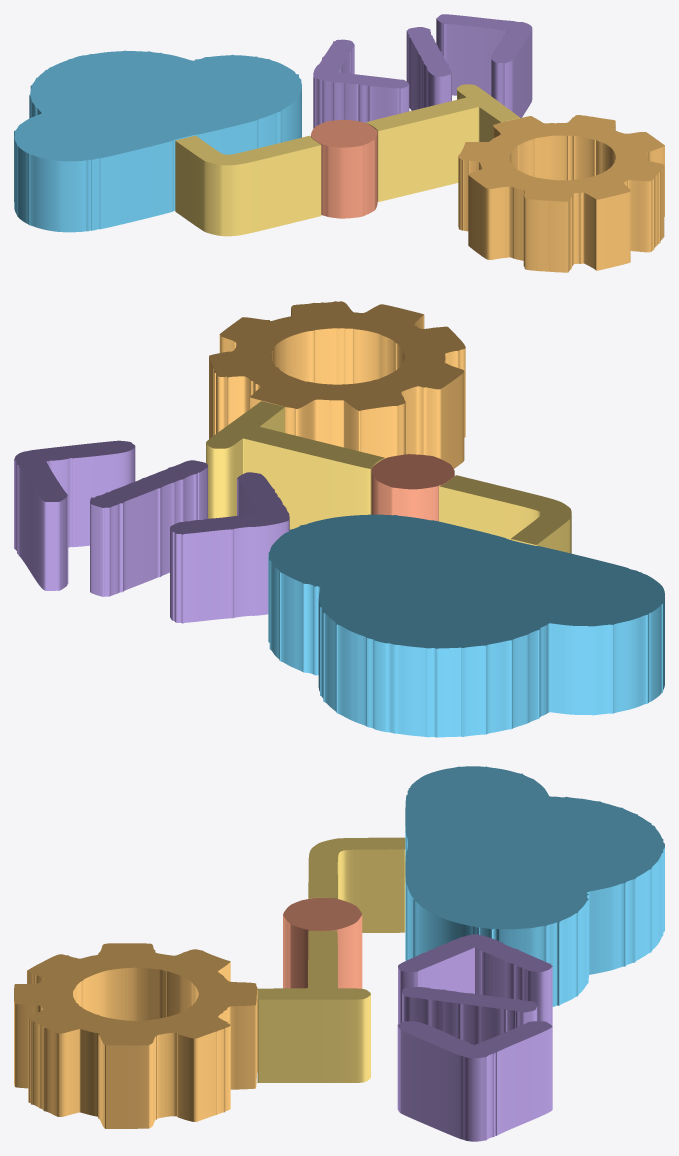
Rendered from backend_api.glb.
3 renders of one model, top to bottom at view 1: azimuth 30°, elevation 25°; view 2: azimuth 150°, elevation 25°; view 3: azimuth 270°, elevation 25°, orthographic. The views are drawn at different scales.
Parts seen in each view (by area): view 1: Node1, Node2, Node7, Node6, Node3, Node8, Node4, Node5; view 2: Node1, Node2, Node6, Node4, Node3, Node5, Node7, Node8; view 3: Node1, Node2, Node3, Node6, Node4, Node7, Node8, Node5.
Part boxes in pixels (x1=…): Node1: x1=14, y1=50, x2=301, y2=232; Node2: x1=458, y1=115, x2=664, y2=272; Node7: x1=175, y1=135, x2=321, y2=236; Node6: x1=366, y1=84, x2=519, y2=201; Node3: x1=436, y1=14, x2=532, y2=117; Node8: x1=311, y1=119, x2=377, y2=218; Node4: x1=313, y1=39, x2=409, y2=128; Node5: x1=406, y1=27, x2=451, y2=110; Node1: x1=268, y1=514, x2=664, y2=737; Node2: x1=209, y1=301, x2=465, y2=468; Node6: x1=206, y1=401, x2=384, y2=529; Node4: x1=170, y1=472, x2=289, y2=623; Node3: x1=14, y1=440, x2=135, y2=590; Node5: x1=90, y1=460, x2=207, y2=596; Node7: x1=439, y1=475, x2=571, y2=553; Node8: x1=371, y1=454, x2=454, y2=521; Node1: x1=405, y1=766, x2=664, y2=1006; Node2: x1=14, y1=943, x2=257, y2=1128; Node3: x1=397, y1=1021, x2=552, y2=1141; Node6: x1=257, y1=930, x2=370, y2=1082; Node4: x1=398, y1=934, x2=552, y2=1025; Node7: x1=308, y1=837, x2=405, y2=932; Node8: x1=283, y1=898, x2=362, y2=988; Node5: x1=402, y1=987, x2=537, y2=1044.
Size of the model in its own units: 2.95 by 0.3937 by 2.78.
